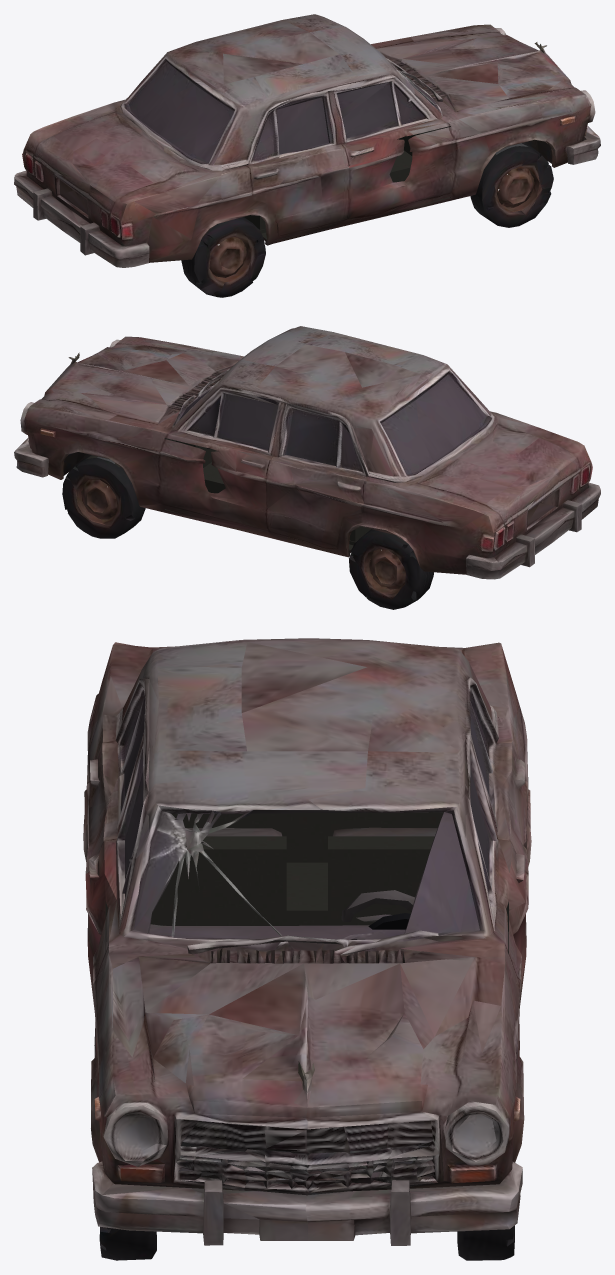
File: car_sedan.glb
3 renders of one model, top to bottom at view 1: azimuth 30°, elevation 25°; view 2: azimuth 150°, elevation 25°; view 3: azimuth 270°, elevation 25°, orthographic. The views are drawn at different scales.
Visible parts, largest first — view 1: body, door_front_2, hood, door_front_1, trunk, wheel_1, wheel_3; view 2: body, door_back_2, hood, door_back_1, trunk, wheel_2, wheel_4; view 3: body, hood, door_back_2, door_front_2, door_back_1, door_front_1, trunk, wheel_4, wheel_3.
Boxes of the visible parts, x1=… form: body: x1=14, y1=14, x2=600, y2=267; door_front_2: x1=336, y1=78, x2=458, y2=226; hood: x1=371, y1=24, x2=592, y2=132; door_front_1: x1=240, y1=96, x2=349, y2=245; trunk: x1=27, y1=105, x2=209, y2=212; wheel_1: x1=181, y1=217, x2=267, y2=297; wheel_3: x1=470, y1=143, x2=553, y2=227; body: x1=14, y1=326, x2=600, y2=579; door_back_2: x1=157, y1=390, x2=279, y2=538; hood: x1=23, y1=336, x2=243, y2=444; door_back_1: x1=265, y1=408, x2=374, y2=556; trunk: x1=406, y1=417, x2=587, y2=524; wheel_2: x1=346, y1=529, x2=433, y2=609; wheel_4: x1=62, y1=456, x2=143, y2=538; body: x1=83, y1=638, x2=530, y2=1245; hood: x1=98, y1=958, x2=515, y2=1121; door_back_2: x1=465, y1=751, x2=528, y2=1049; door_front_2: x1=85, y1=751, x2=148, y2=1048; door_back_1: x1=469, y1=662, x2=531, y2=940; door_front_1: x1=83, y1=662, x2=146, y2=940; trunk: x1=93, y1=642, x2=520, y2=730; wheel_4: x1=457, y1=1225, x2=514, y2=1260; wheel_3: x1=99, y1=1227, x2=156, y2=1260.
Size of the model in its own units: 4.5 by 1.56 by 1.74.
7 materials, 4 textured.
